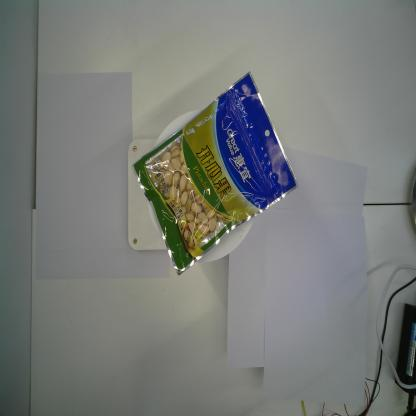Dried Fruit: (130, 70, 300, 277)
